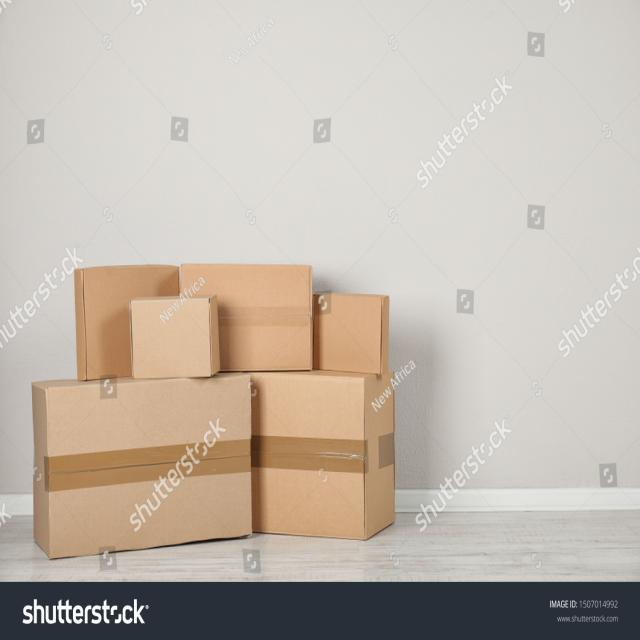BoxFace: (46, 374, 252, 562), (252, 376, 366, 540), (179, 262, 313, 370), (81, 266, 179, 379), (130, 298, 210, 377), (313, 294, 382, 374)
